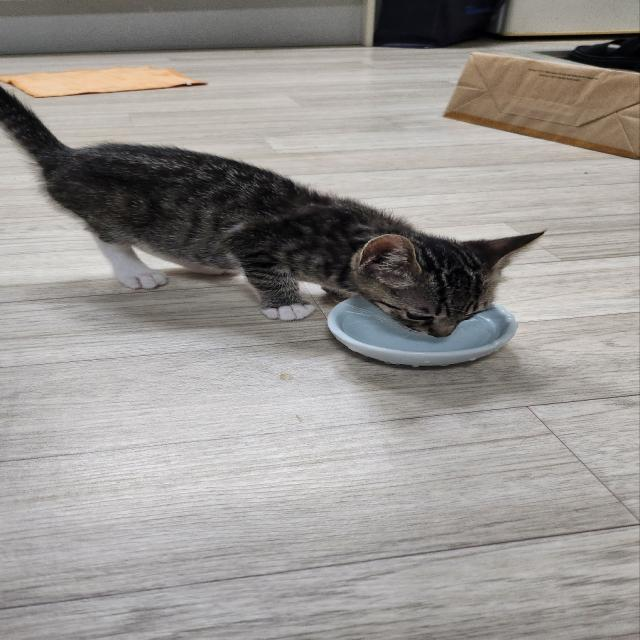cat: (5, 142, 542, 338)
